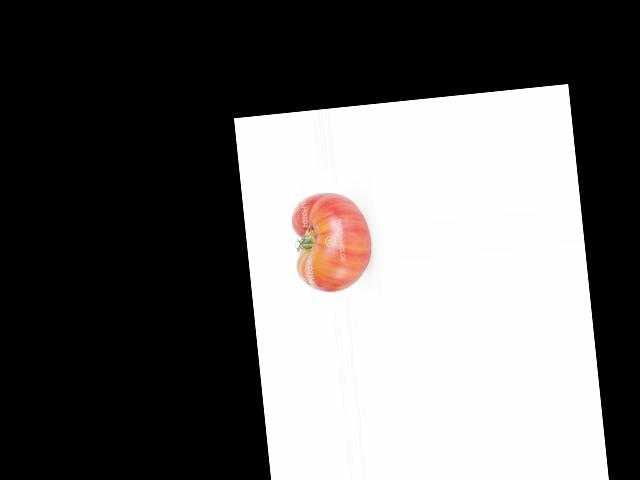tomato: (289, 189, 375, 295)
